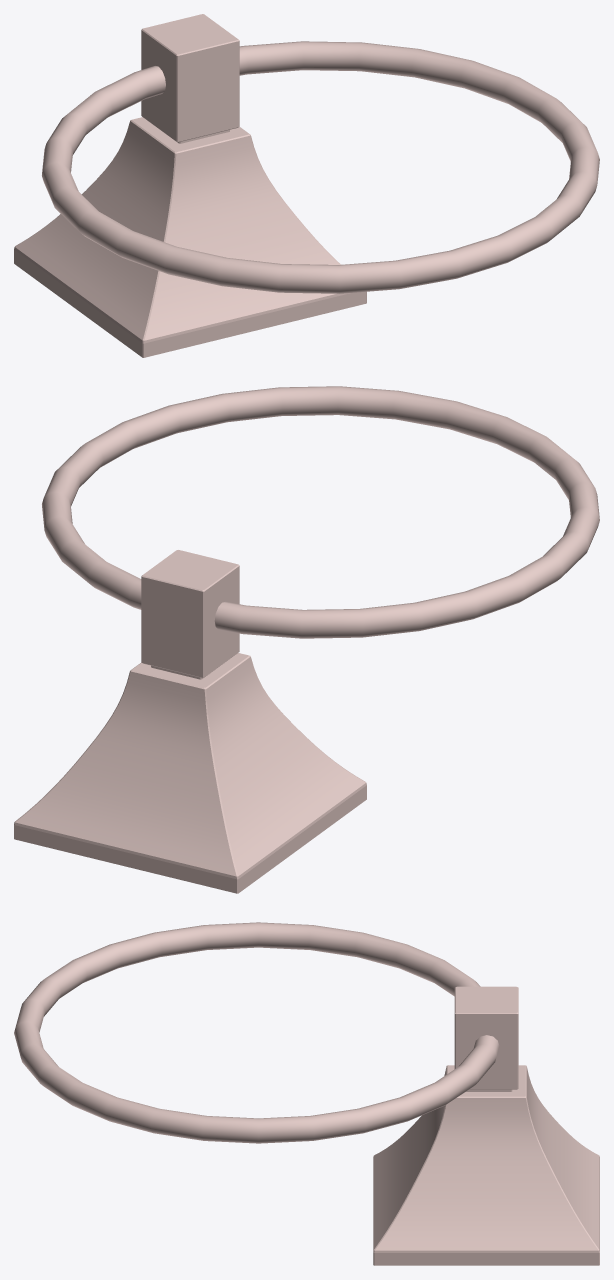
3 renders of one model, top to bottom at view 1: azimuth 30°, elevation 25°; view 2: azimuth 150°, elevation 25°; view 3: azimuth 270°, elevation 25°, orthographic. The views are drawn at different scales.
Visible parts, largest first — view 1: 9df21e4c08680b11af0501f324499f493365b61e > > root >; view 2: 9df21e4c08680b11af0501f324499f493365b61e > > root >; view 3: 9df21e4c08680b11af0501f324499f493365b61e > > root >.
Part boxes in pixels (bbox=[...]): 9df21e4c08680b11af0501f324499f493365b61e > > root >: bbox=[14, 14, 599, 357]; 9df21e4c08680b11af0501f324499f493365b61e > > root >: bbox=[14, 386, 599, 893]; 9df21e4c08680b11af0501f324499f493365b61e > > root >: bbox=[14, 922, 599, 1265].
Size of the model in its own units: 0.1936 by 0.0951 by 0.2318.
